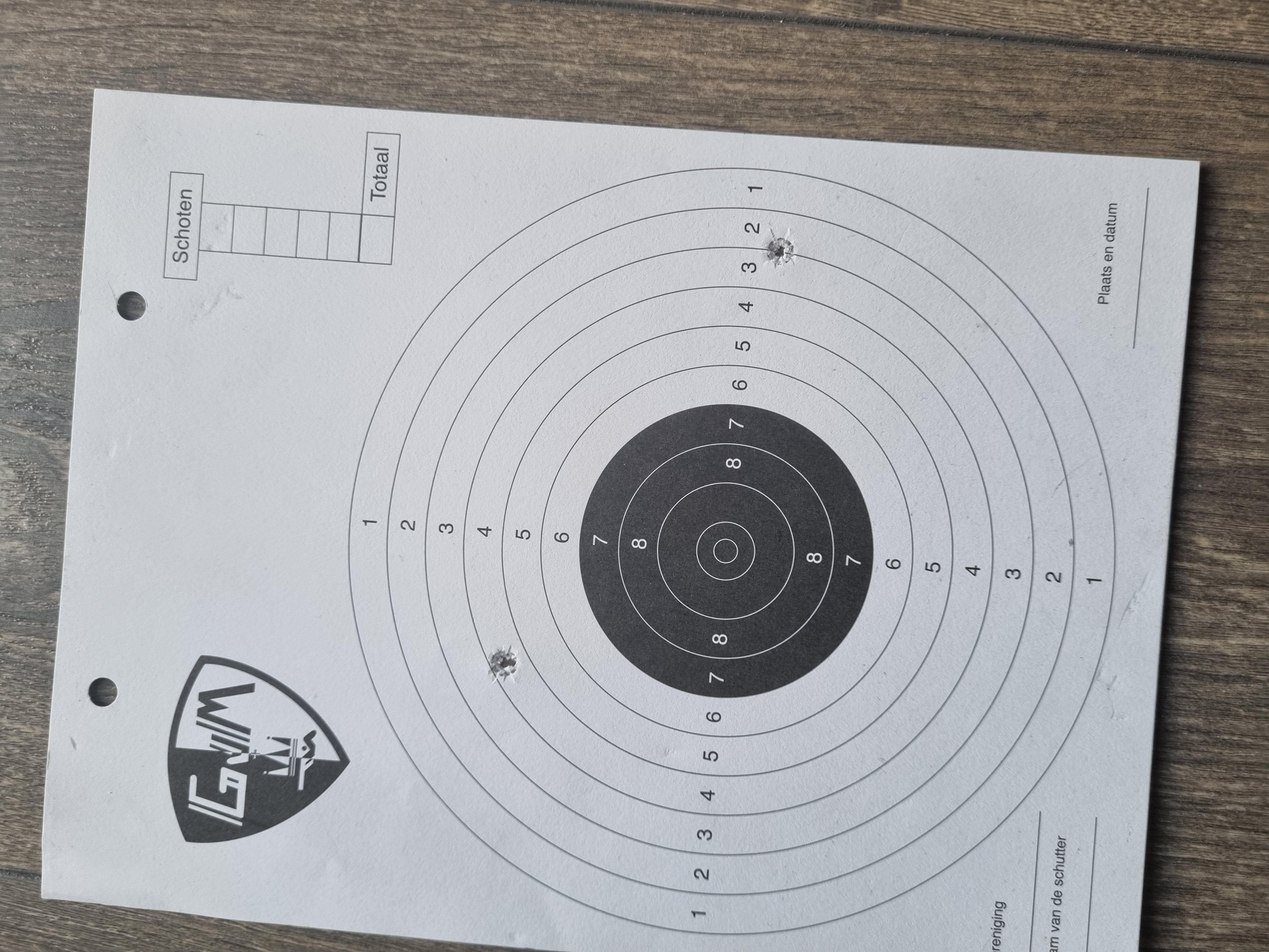hole: (354, 364, 410, 390), (913, 573, 957, 599)
